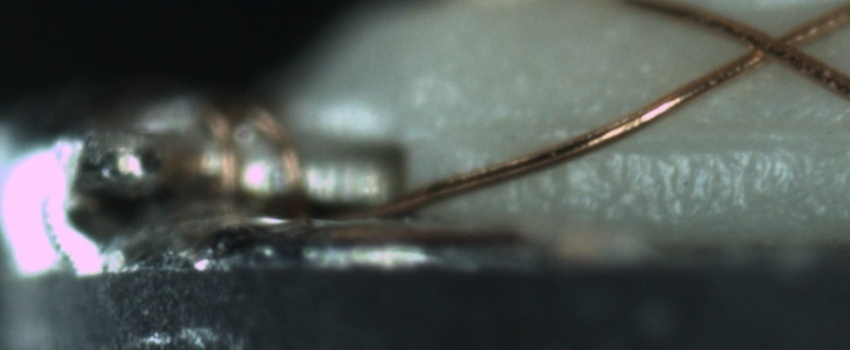CL: (726, 15, 816, 74)
DL: (469, 107, 849, 166)
TE: (195, 96, 307, 212)
